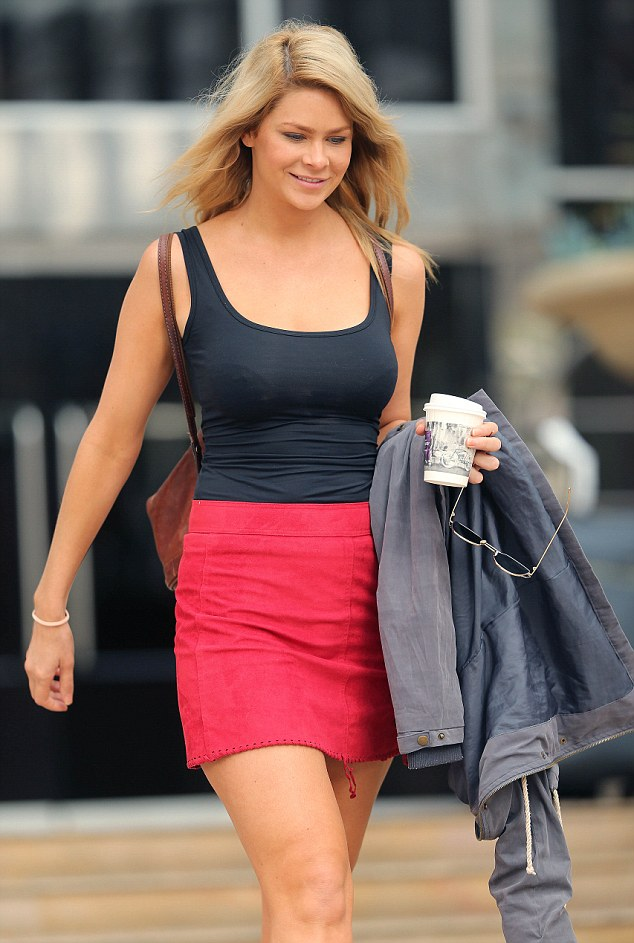Person: (28, 20, 506, 943)
